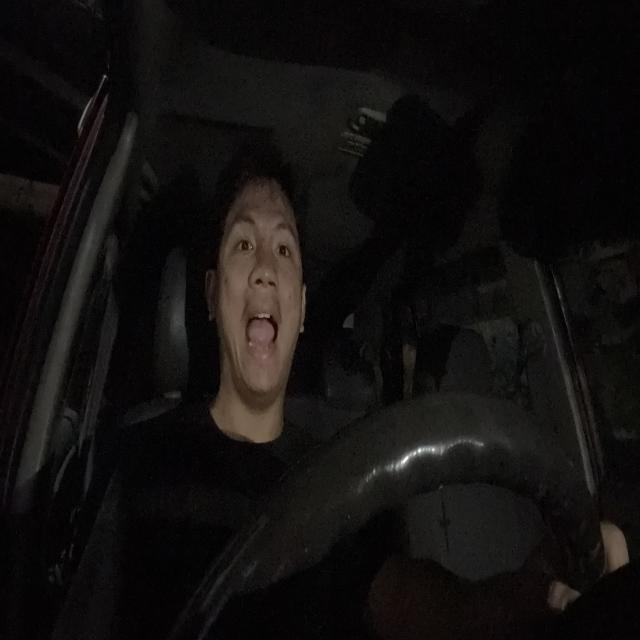open: (229, 209, 259, 265), (271, 216, 298, 268)
